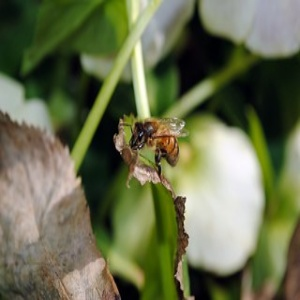bee: (128, 118, 188, 177)
